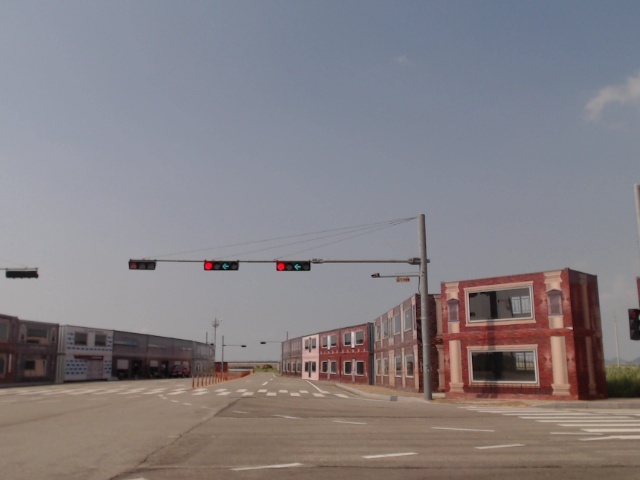left_green_4: (204, 261, 239, 271), (277, 261, 311, 271)
